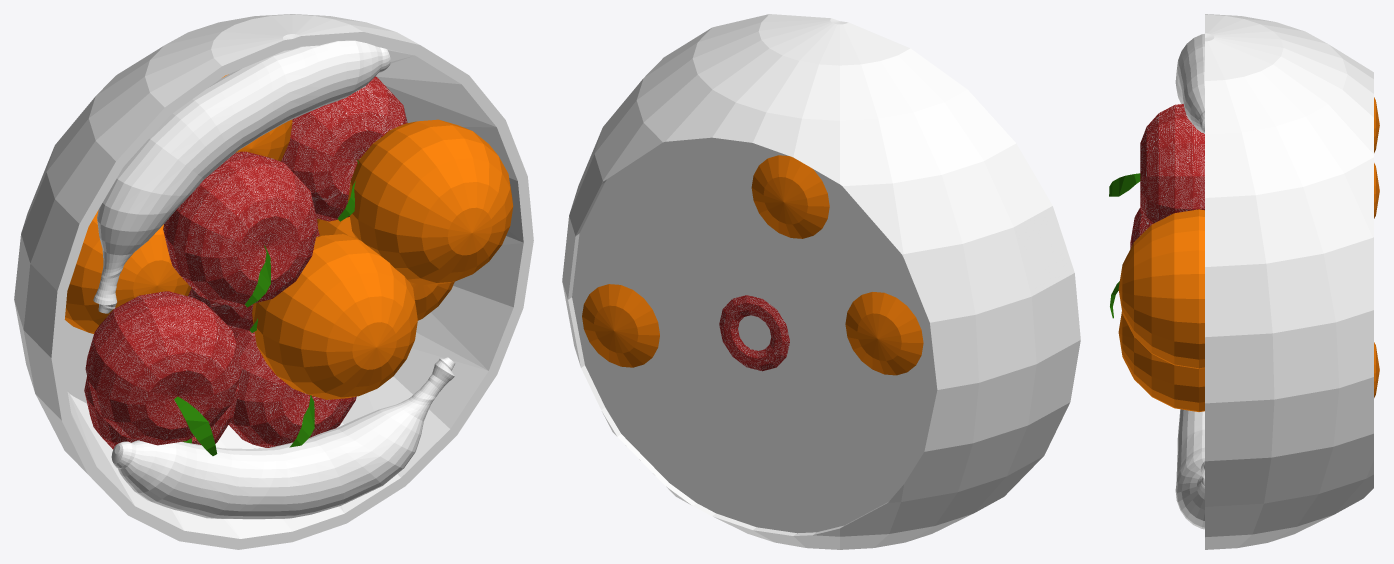
The picture shows the model from 3 angles, left to right: view 1: azimuth 30°, elevation 25°; view 2: azimuth 150°, elevation 25°; view 3: azimuth 270°, elevation 25°; orthographic projection. The views are drawn at different scales.
Parts seen in each view (by area): view 1: bowl of fruit; view 2: bowl of fruit; view 3: bowl of fruit.
Part boxes in pixels (<box>): bowl of fruit: <box>14,14,533,549</box>; bowl of fruit: <box>562,14,1080,549</box>; bowl of fruit: <box>1109,14,1379,549</box>.
Bounding box in the file's own units: 9.84 × 9.82 × 4.95.
